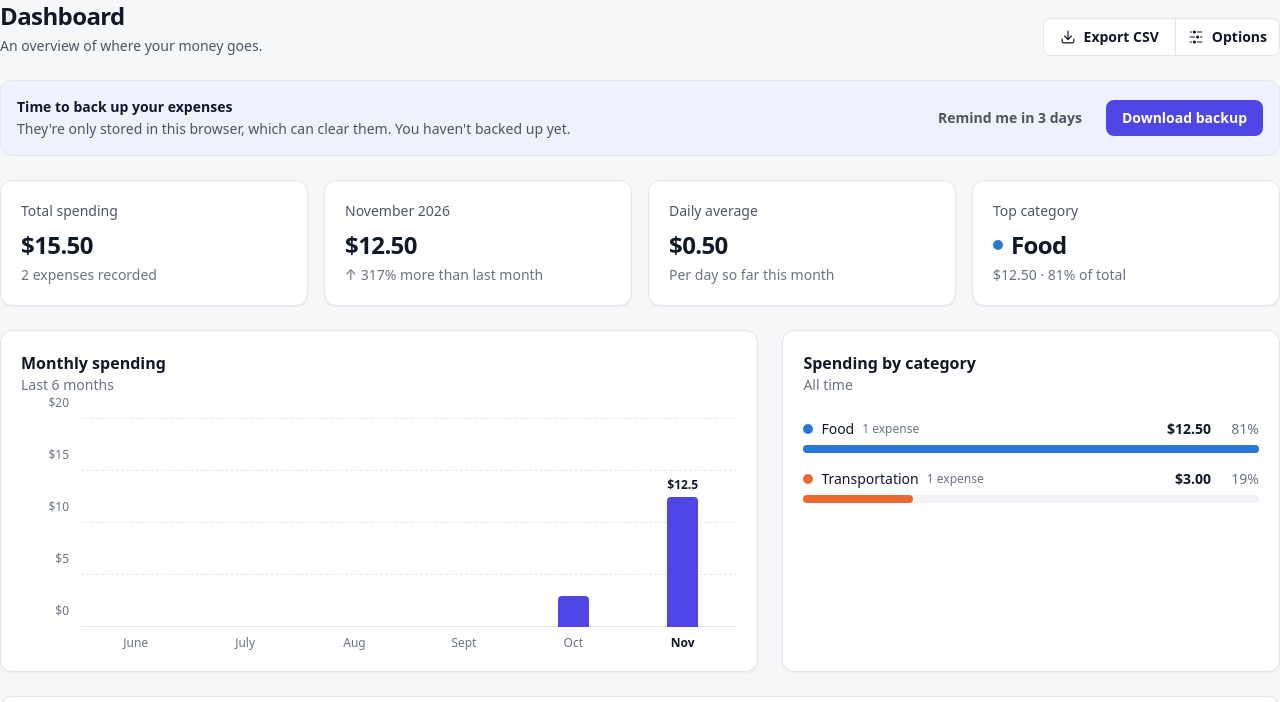
Scenario: DashboardView export › downloads every expense as CSV
The width and height of the screenshot is (1280, 702).
Click the button "Export CSV" at coordinates (1109, 37), box [1042, 18, 1176, 56]
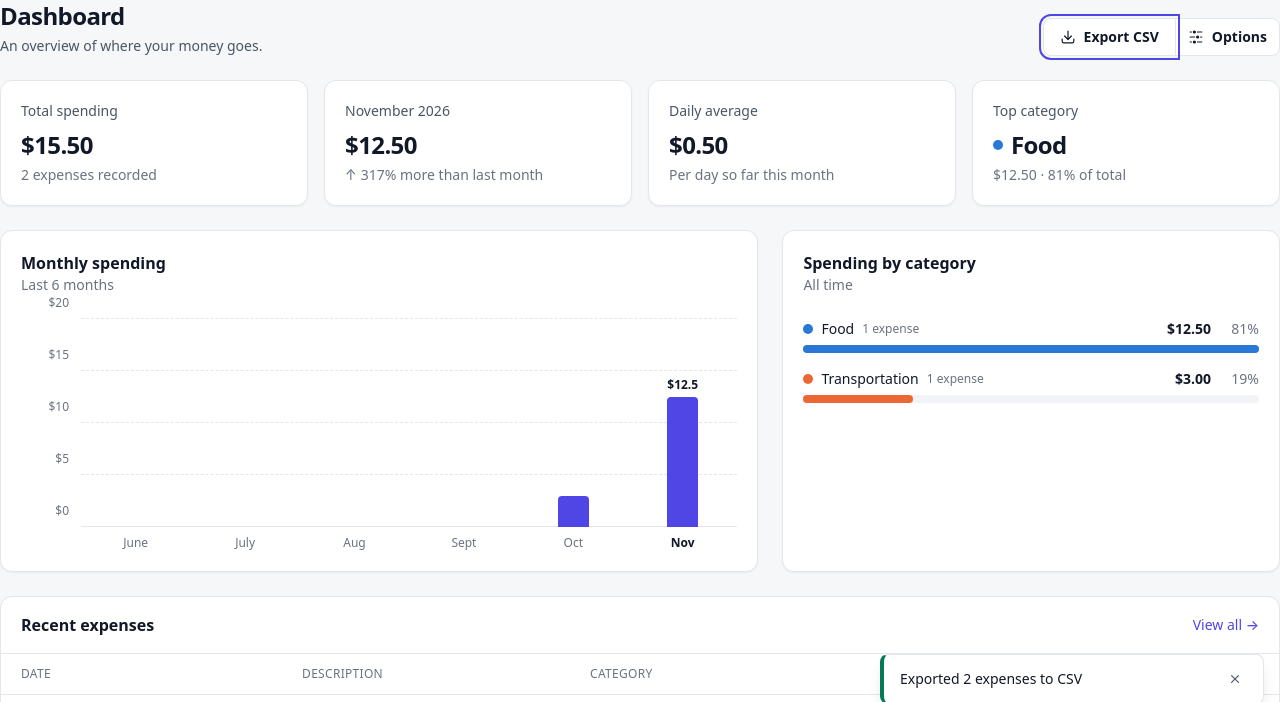
Check: the text "Exported 2 expenses to CSV" is shown, box [900, 669, 1082, 688]
